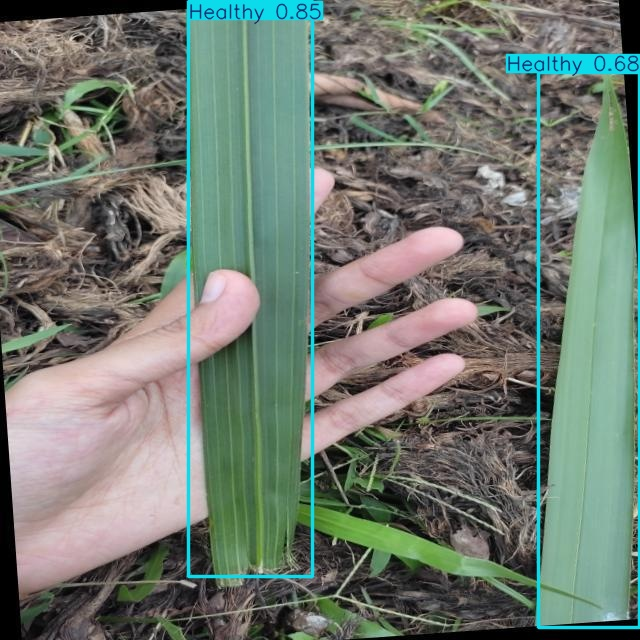Healthy: (188, 1, 313, 576), (538, 72, 639, 627)
